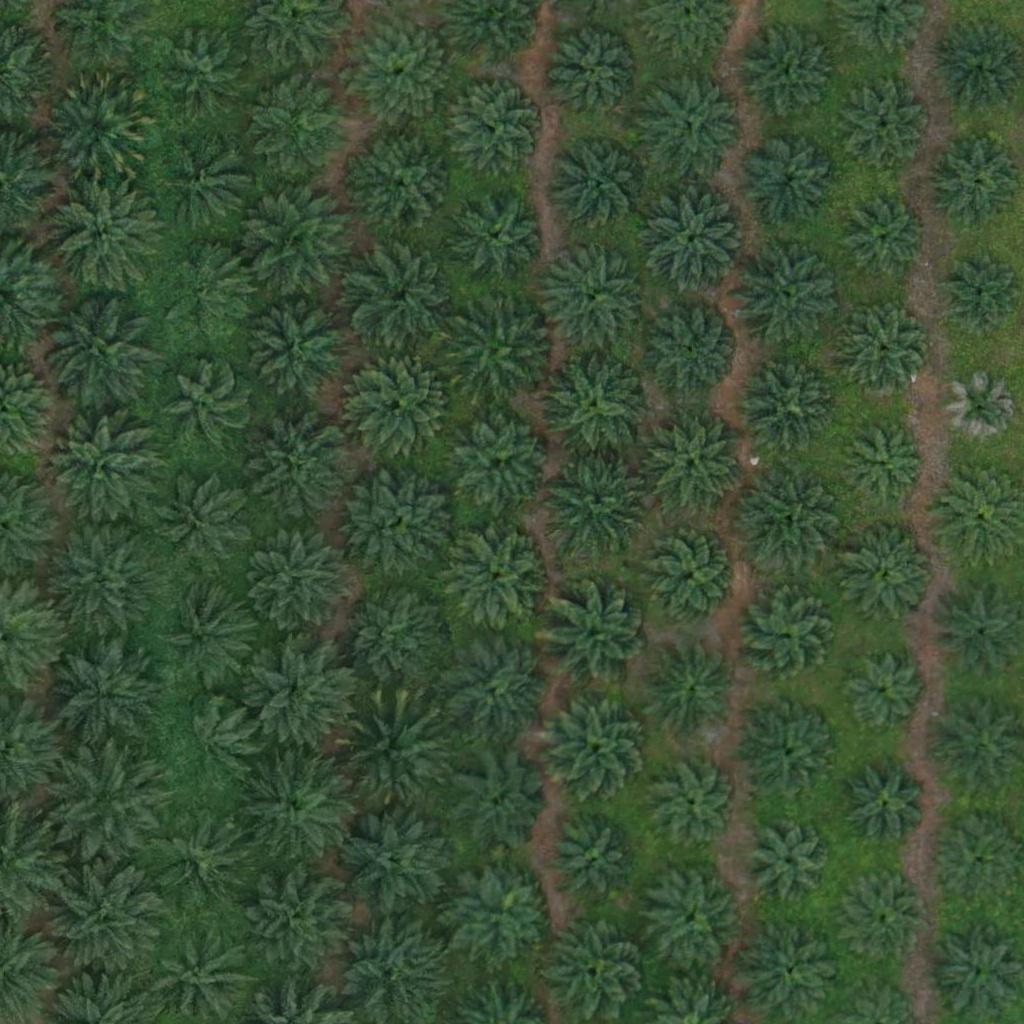Kelapa_Sawit: (344, 16, 457, 130), (348, 128, 461, 242), (445, 292, 558, 406), (537, 349, 650, 463), (545, 448, 658, 562), (42, 72, 155, 185), (46, 176, 159, 289), (41, 293, 154, 406), (45, 415, 158, 528), (243, 523, 356, 636), (732, 239, 845, 352), (539, 580, 652, 693), (541, 690, 654, 803), (340, 803, 453, 916), (245, 637, 358, 750), (236, 750, 349, 863), (242, 867, 355, 980), (535, 242, 647, 356), (732, 464, 844, 578), (49, 744, 161, 858), (51, 861, 163, 975), (48, 523, 160, 636), (246, 186, 358, 299), (244, 294, 356, 407), (348, 243, 460, 356), (347, 467, 459, 580), (639, 183, 751, 296), (338, 583, 450, 696), (337, 698, 449, 811), (47, 638, 159, 751), (252, 418, 352, 519), (350, 354, 450, 455), (452, 411, 552, 512), (548, 27, 648, 128), (550, 133, 650, 234), (643, 71, 743, 172), (737, 23, 837, 124), (740, 131, 840, 232), (738, 355, 838, 456), (743, 920, 843, 1021), (641, 639, 741, 740), (642, 867, 742, 968), (546, 921, 646, 1022), (445, 526, 545, 627), (442, 638, 542, 739), (451, 754, 551, 855), (452, 864, 552, 965), (157, 584, 257, 685), (256, 78, 356, 178), (447, 77, 547, 177), (450, 188, 550, 288), (642, 299, 742, 399), (644, 416, 744, 516), (838, 523, 938, 623), (737, 585, 837, 685), (741, 701, 841, 801), (641, 526, 741, 626), (149, 811, 249, 911), (842, 85, 930, 174), (161, 143, 249, 231), (933, 141, 1021, 229), (841, 652, 929, 740), (550, 816, 638, 904), (166, 701, 254, 789), (166, 33, 253, 121), (165, 247, 252, 335), (160, 361, 247, 449), (161, 477, 248, 565), (839, 199, 926, 287), (842, 309, 929, 397), (936, 823, 1023, 911), (748, 815, 835, 903), (650, 759, 737, 847), (848, 426, 923, 502), (850, 769, 925, 845), (848, 880, 923, 956), (942, 259, 1017, 334), (944, 373, 1019, 448)
